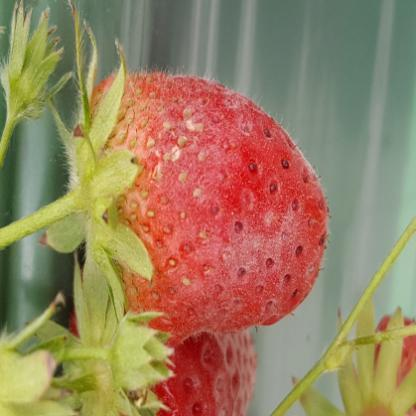Strawberry_Powdery_Mildew_Fruit: (74, 71, 328, 352)
